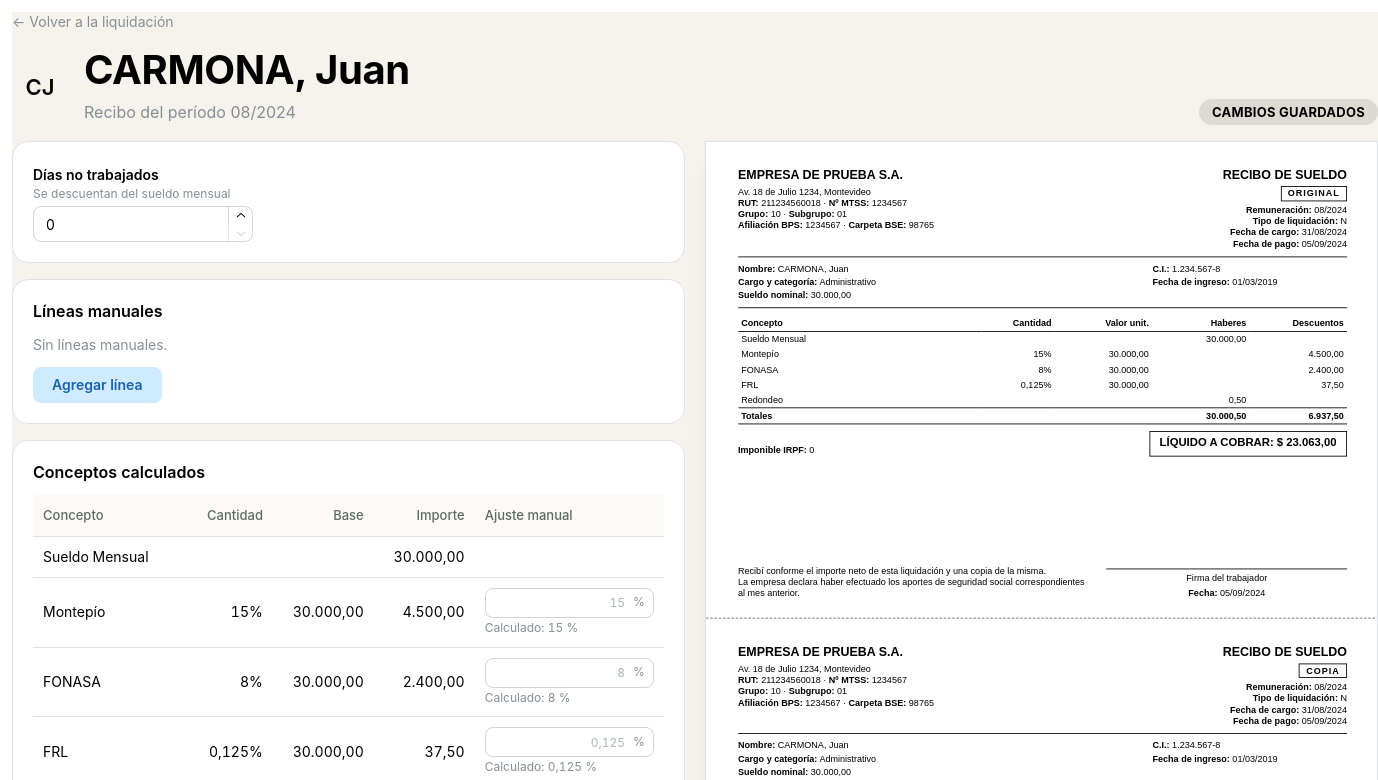
Test: ReciboEditorPage › marks an overridden line and restaurar removes the override
Type "6" into the field named "Ajuste FONASA".
click(569, 673); type("6")  # box 485,658 -> 654,688
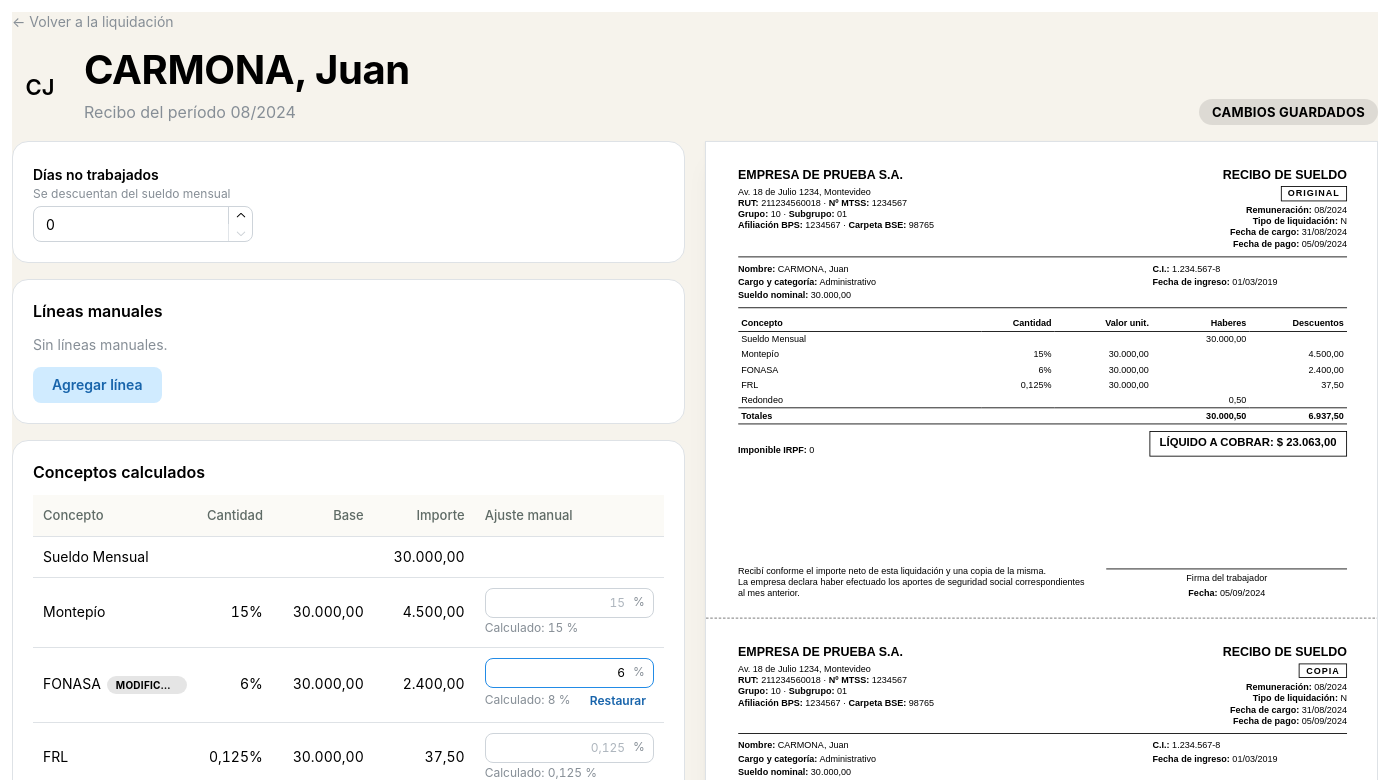
Expected: the row with test id "linea-auto-FONASA" shows "6%", 240,675 -> 263,692
Expected: the text "Modificado" is shown, 116,677 -> 178,693
Click the button with aria-label "Restaurar FONASA".
click(618, 701)  # box 582,690 -> 654,712
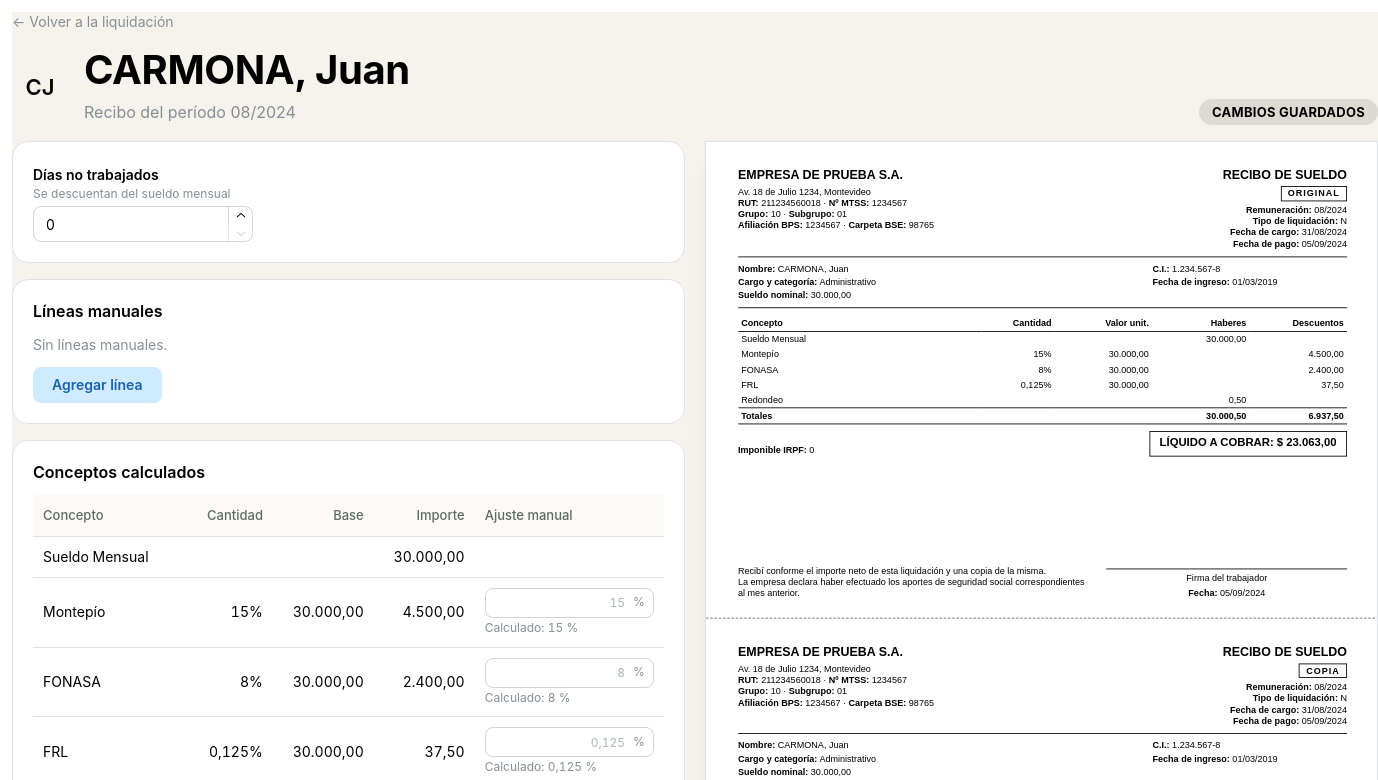
Expected: the text "Modificado" is gone
Expected: the field named "Ajuste FONASA" is empty, 485,658 -> 654,688
